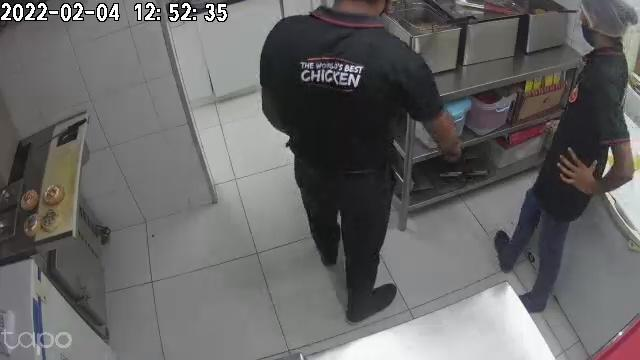no_gloves: (558, 148, 602, 194)
